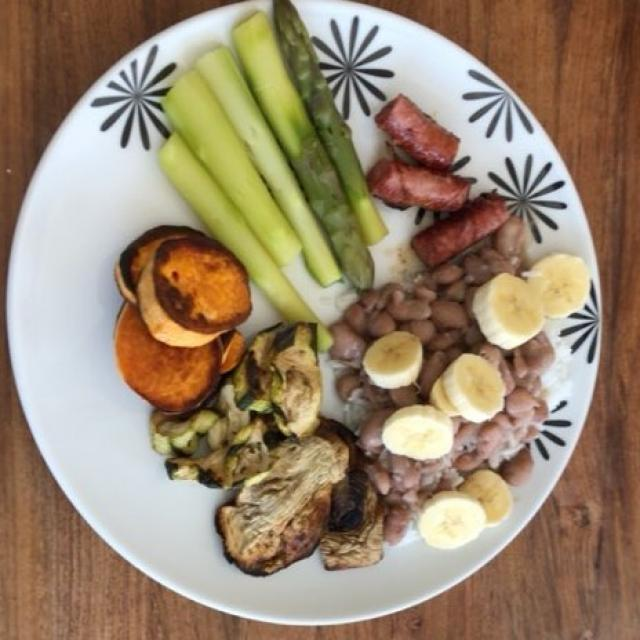asparagus: (150, 2, 374, 354)
banana: (366, 248, 590, 550)
beans: (337, 264, 558, 523)
mixed-vegetables: (148, 328, 370, 582)
pumpkin: (105, 212, 238, 406)
sausage: (364, 93, 534, 275)
